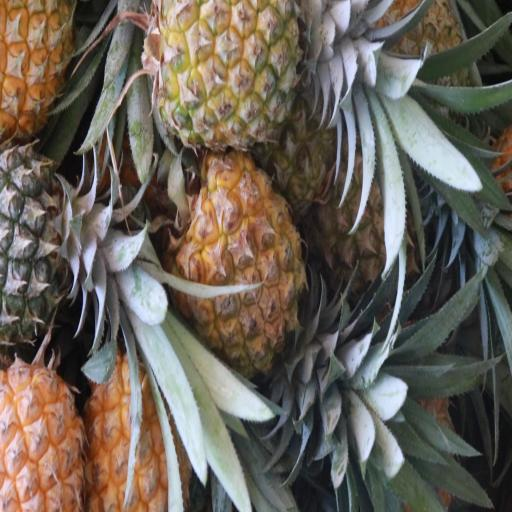------------------------------: (310, 153, 412, 302)
Pineapple - v8 v1: (172, 152, 307, 380), (152, 0, 308, 142), (82, 354, 190, 512), (0, 363, 85, 512), (0, 0, 73, 138)
